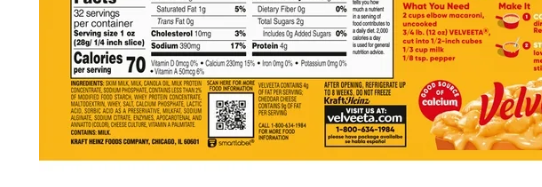l: (67, 80, 203, 129)
